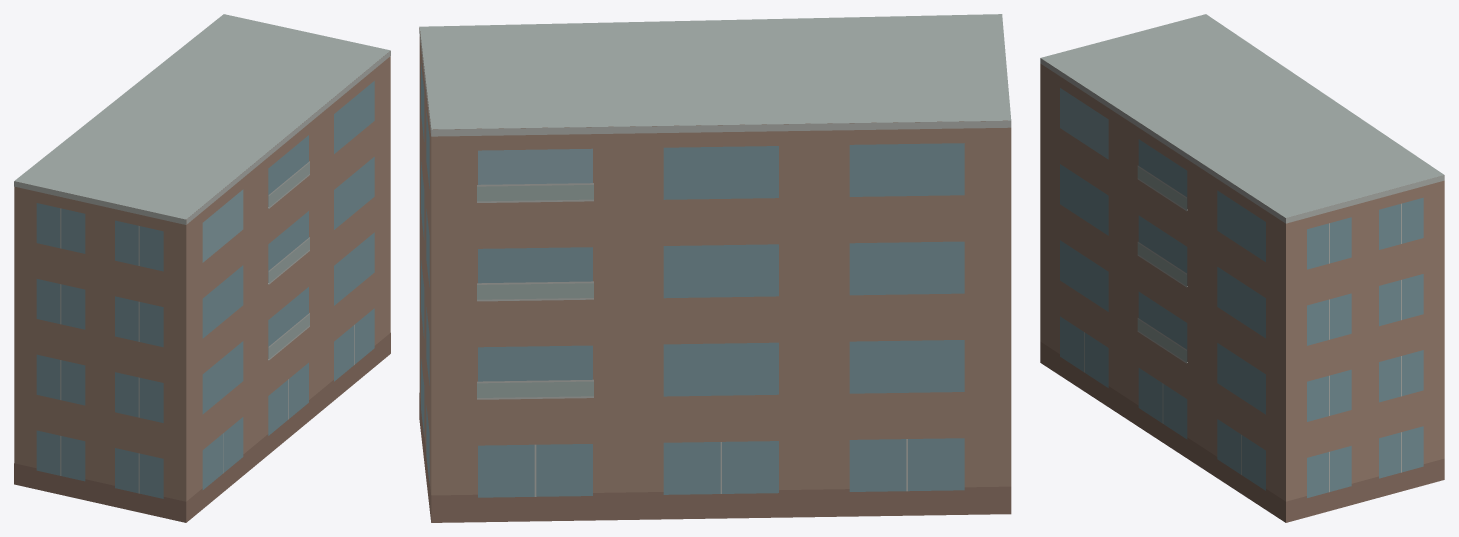
Rendered from survey-upis-32780656.glb.
The picture shows the model from 3 angles, left to right: view 1: azimuth 30°, elevation 25°; view 2: azimuth 150°, elevation 25°; view 3: azimuth 270°, elevation 25°; orthographic projection. The views are drawn at different scales.
Parts seen in each view (by area): view 1: survey-upis-32780656.tmp; view 2: survey-upis-32780656.tmp; view 3: survey-upis-32780656.tmp.
Part boxes in pixels (bbox=[...]): survey-upis-32780656.tmp: bbox=[14, 14, 390, 522]; survey-upis-32780656.tmp: bbox=[419, 14, 1011, 522]; survey-upis-32780656.tmp: bbox=[1040, 14, 1444, 522].
Size of the model in its own units: 19.4 by 13.5 by 16.24.
